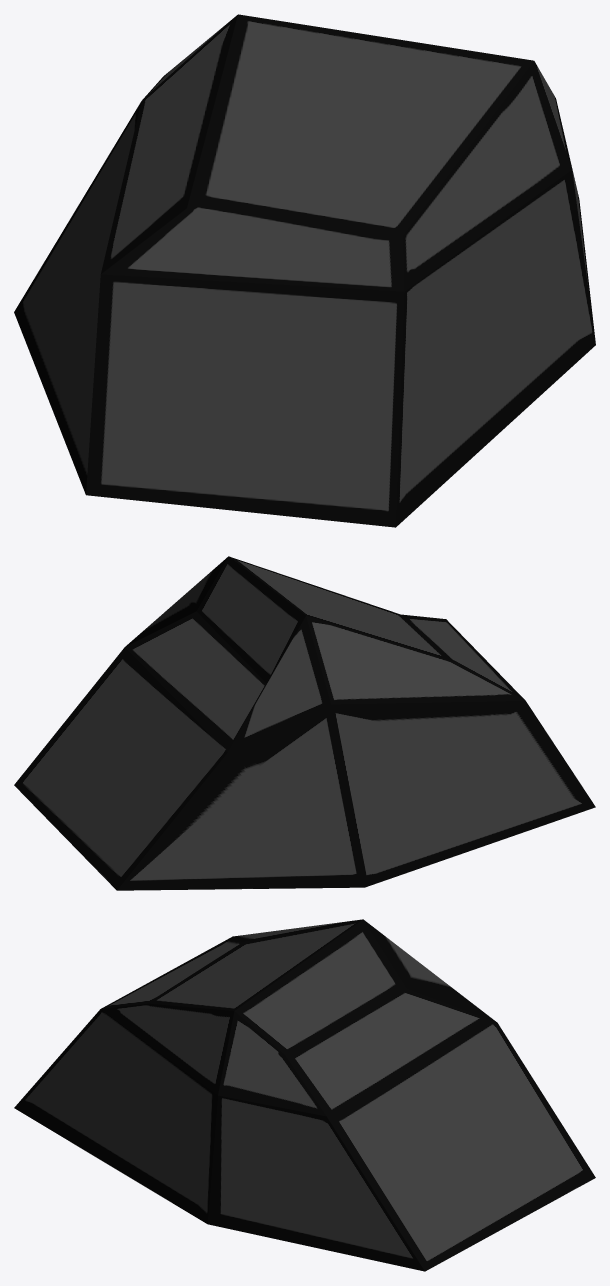
Rendered from caillou02.fbx.
3 renders of one model, top to bottom at view 1: azimuth 30°, elevation 25°; view 2: azimuth 150°, elevation 25°; view 3: azimuth 270°, elevation 25°, orthographic. The views are drawn at different scales.
Parts seen in each view (by area): view 1: caillou6; view 2: caillou6; view 3: caillou6.
Boxes of the visible parts, x1,y1,x2,y2 form: caillou6: (14,14,595,527); caillou6: (14,556,595,890); caillou6: (14,919,595,1271).
Size of the model in its own units: 22.62 by 9.96 by 23.94.
